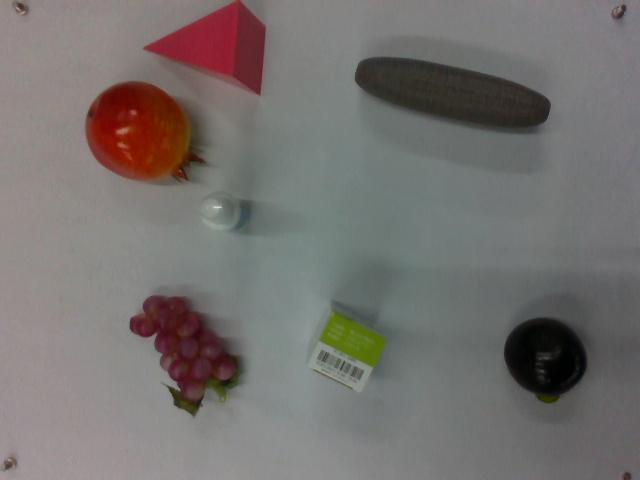carton: (309, 297, 390, 399)
detergent: (202, 192, 251, 239)
glassescase: (353, 49, 553, 134)
grape: (129, 291, 245, 415)
mangosteen: (502, 314, 589, 401)
pomegranate: (83, 75, 209, 188)
pyramid: (143, 2, 268, 95)
